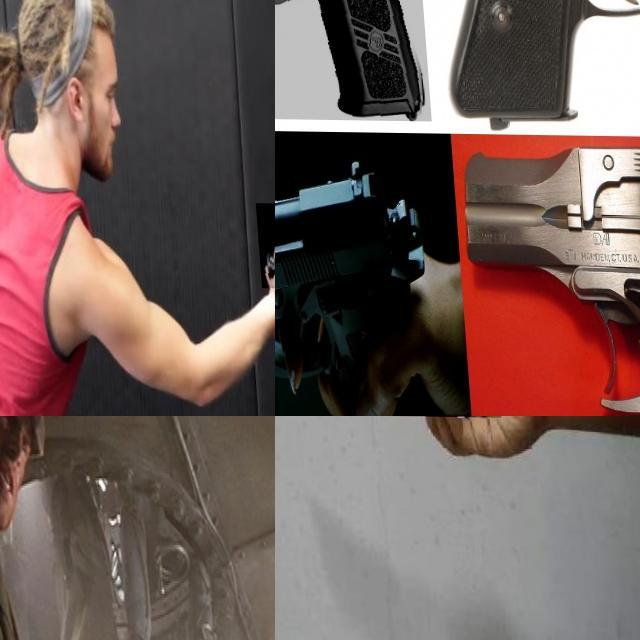-: (275, 416, 496, 471), (252, 202, 275, 288)
gun-knife-thesis - v11 Yolov5 augmented: (450, 140, 640, 416), (275, 166, 423, 416), (433, 0, 640, 155), (275, 0, 432, 152)
